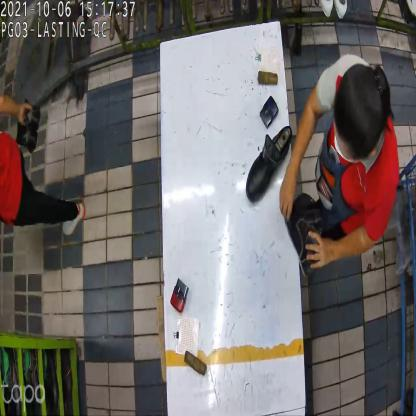shoes: (245, 128, 324, 270)
stamp: (258, 94, 278, 129), (171, 280, 191, 314)
